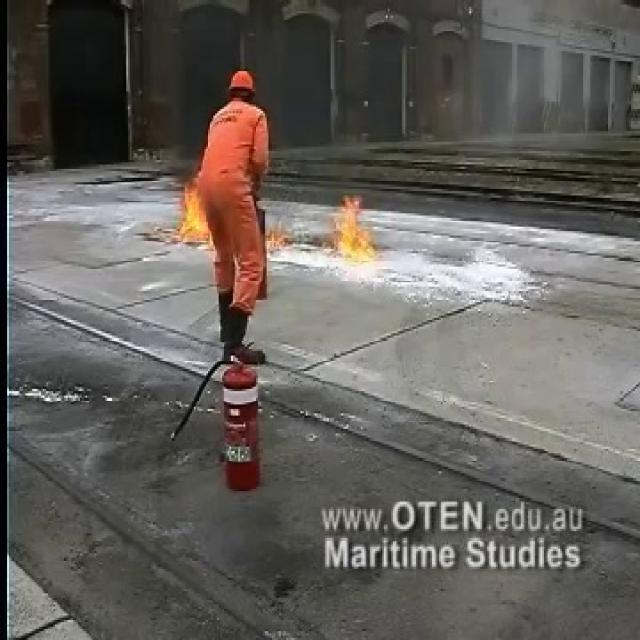Fire: (321, 190, 385, 270), (170, 174, 213, 244)
Smoke: (330, 0, 604, 209)
